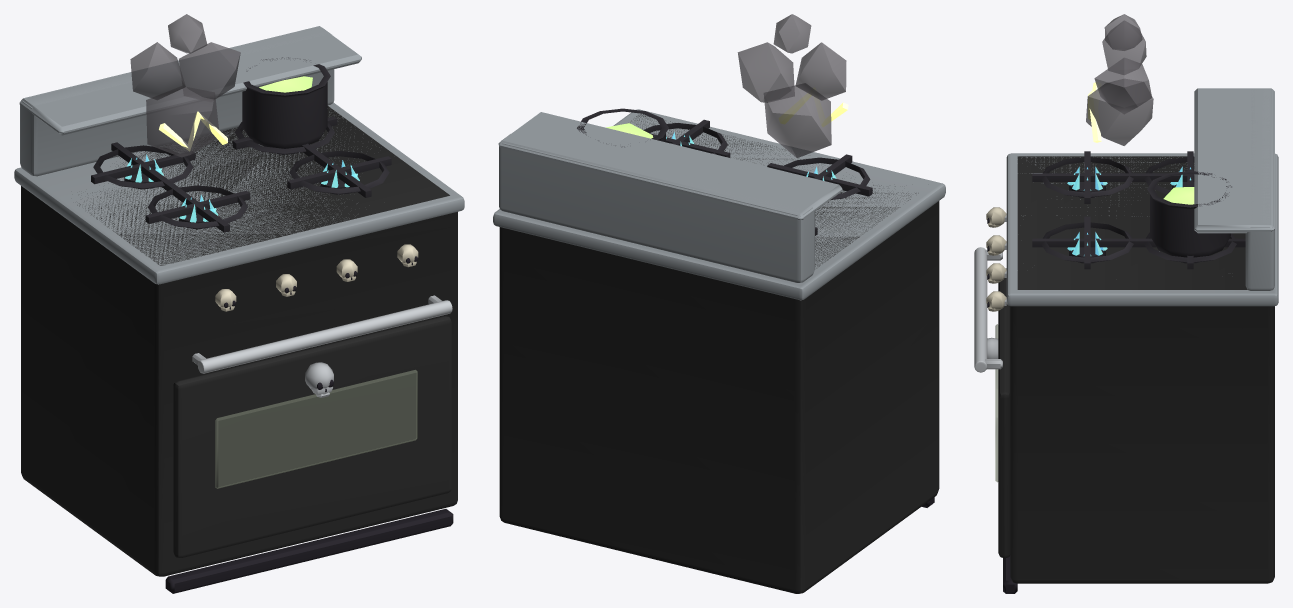
Rendered from stove_necrochef.glb.
The picture shows the model from 3 angles, left to right: view 1: azimuth 30°, elevation 25°; view 2: azimuth 150°, elevation 25°; view 3: azimuth 270°, elevation 25°; orthographic projection. The views are drawn at different scales.
Parts seen in each view (by area): view 1: stove_necrochef, broken, flame; view 2: stove_necrochef, broken; view 3: stove_necrochef, broken, flame.
Part boxes in pixels (<box>): stove_necrochef: <box>14,26,464,593</box>; broken: <box>130,14,240,157</box>; flame: <box>125,154,359,222</box>; stove_necrochef: <box>493,108,945,593</box>; broken: <box>737,14,848,157</box>; stove_necrochef: <box>974,88,1278,593</box>; broken: <box>1086,14,1153,145</box>; flame: <box>1067,166,1191,255</box>.
Size of the model in its own units: 0.92 by 1.46 by 0.828.
